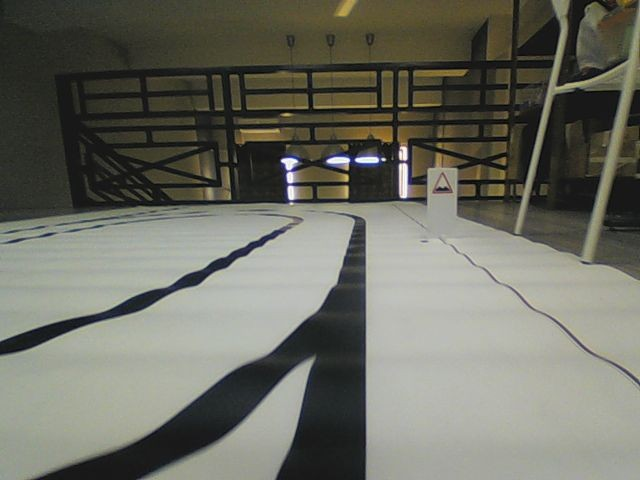Nerov: (431, 170, 453, 195)
